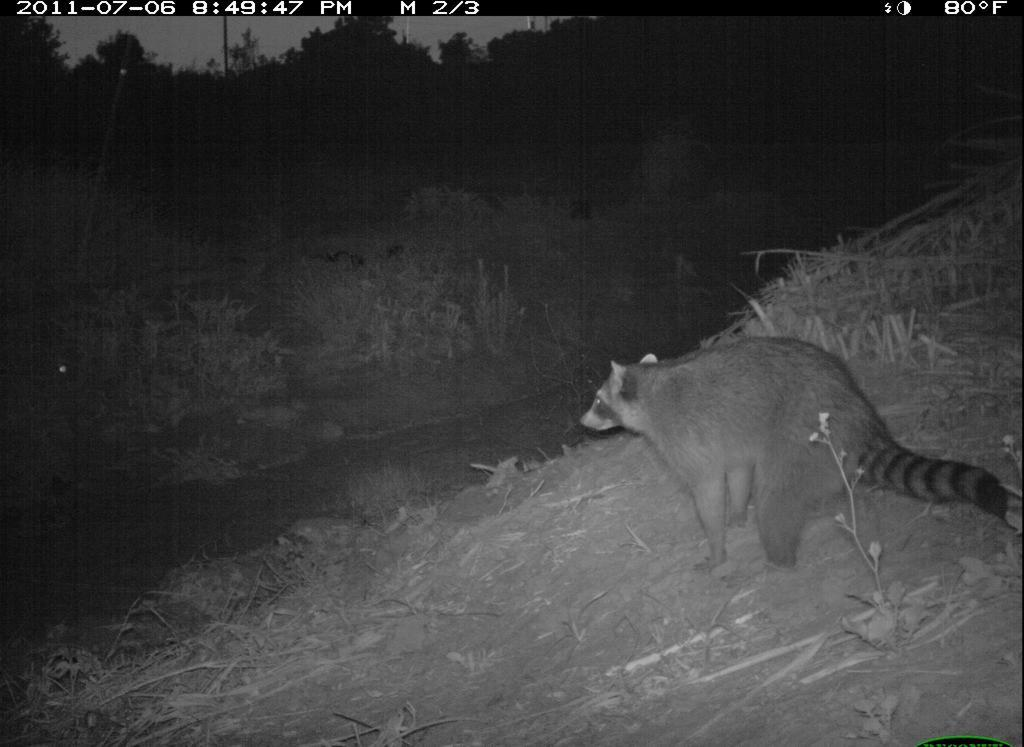raccoon: (557, 328, 1018, 580)
